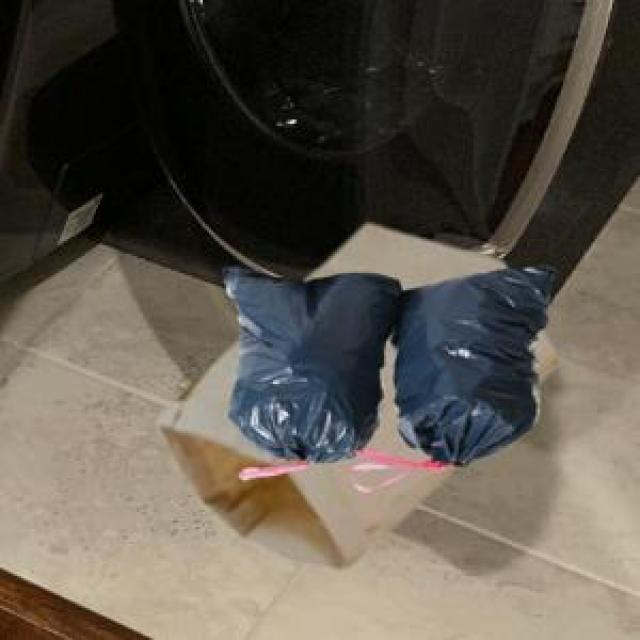miscellaneous trash: (220, 262, 553, 474)
paper: (154, 220, 553, 563)
